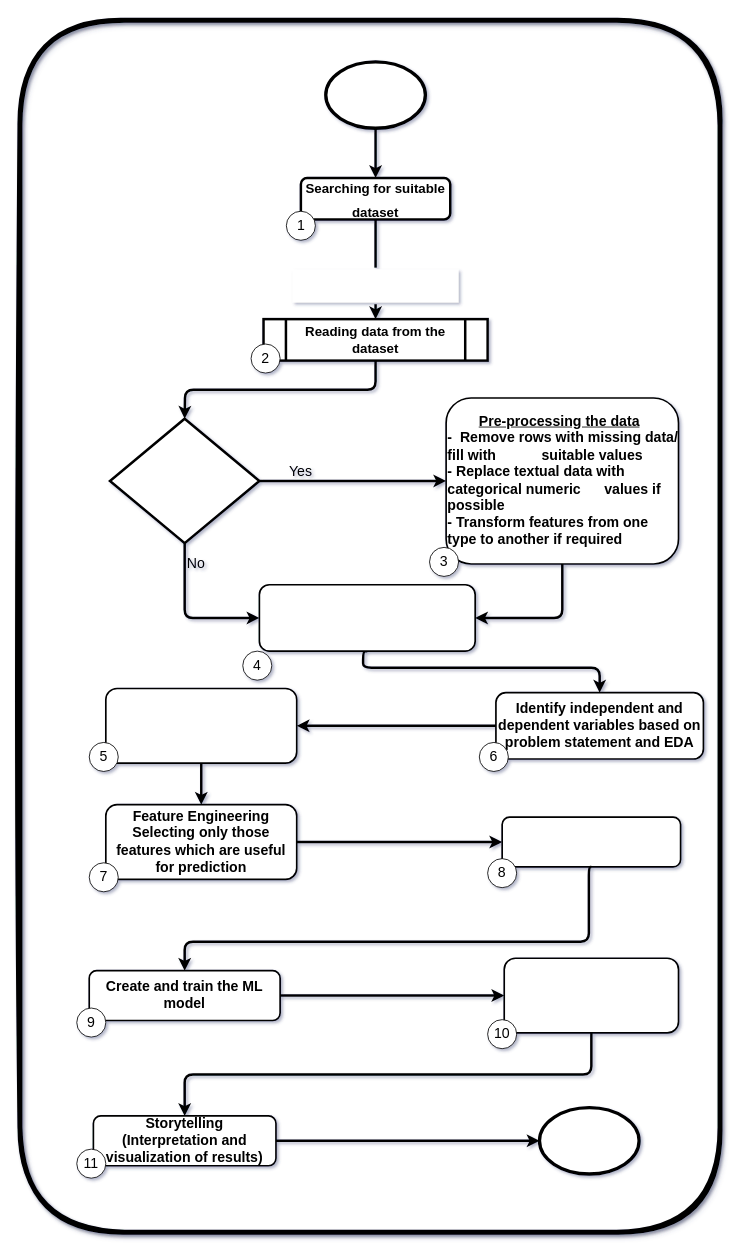
Image size: 747x1259. Some labels were removed from this diagram. Each missing label, with the centre of its shape:
"After finding suitable dataset" goes at pixel 375 285.
"Algorithm Selection based on performance metrics" goes at pixel 201 725.
"Invalid/corrupted /missing values?" goes at pixel 184 480.
"Perform Exploratory Data Analysis to get an overview of the data" goes at pixel 367 617.
"Split the data into train, validation and test sets" goes at pixel 591 841.
"Start" goes at pixel 375 94.
"Stop" goes at pixel 588 1140.
"Validate and evaluate model based on suitable performance metrics" goes at pixel 591 995.
